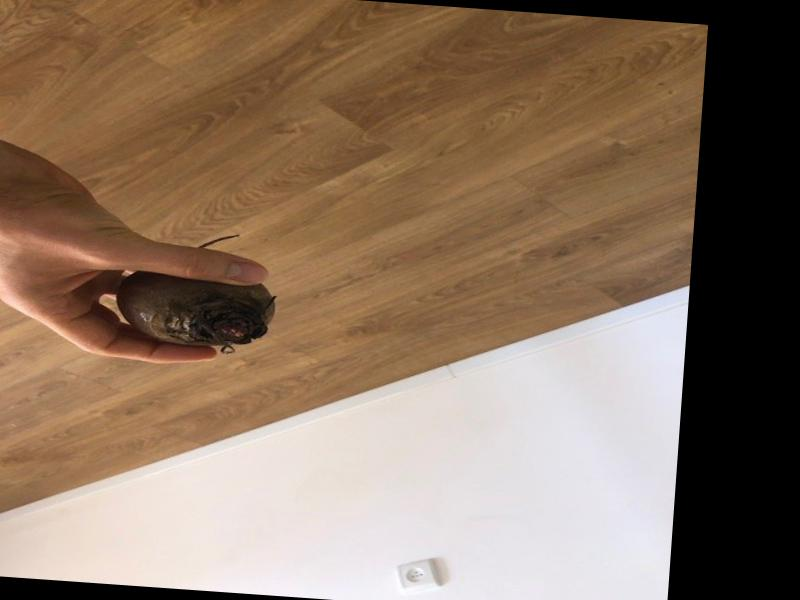Beet: (114, 227, 281, 354)
